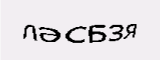В: (52, 17, 64, 41)
Т: (80, 5, 95, 32)
Ф: (91, 4, 115, 34)
Х: (34, 18, 53, 41)
Щ: (62, 12, 82, 38)
